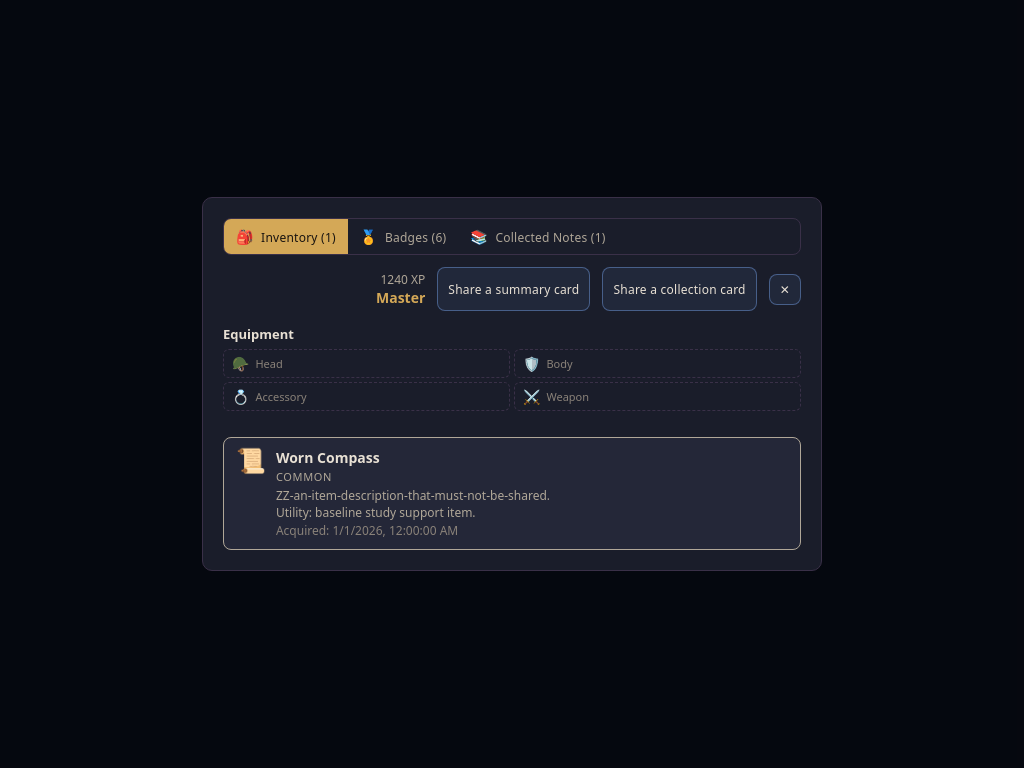
Test: the panel offers a preview, not an instant download › opens a preview on the summary card, naming the card kind it opens
Click the button "Share a summary card" at (514, 289), box [437,267,590,311]
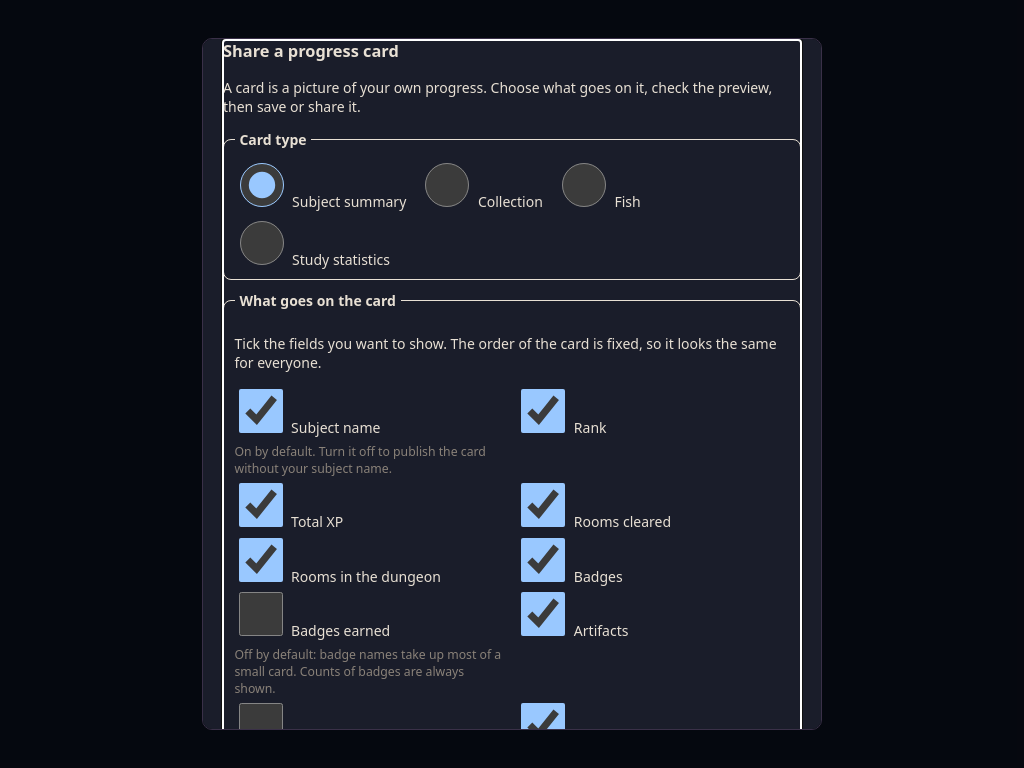
Result: the radio button labelled "Subject summary" is checked at [240,163,284,207]
